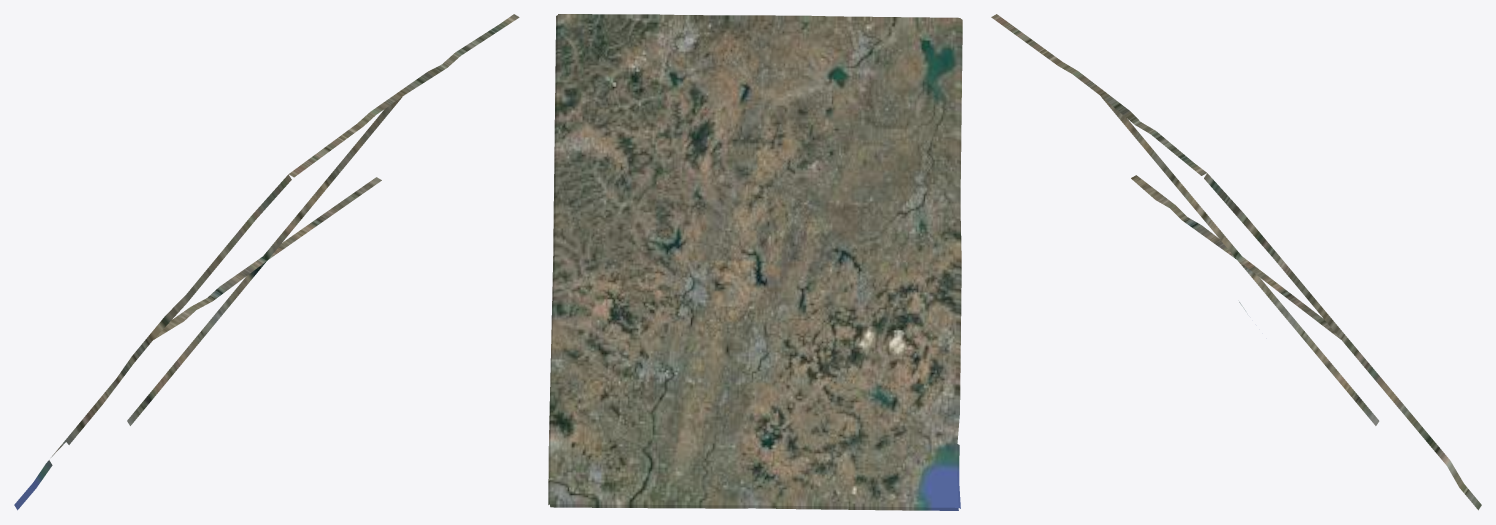
The picture shows the model from 3 angles, left to right: view 1: azimuth 30°, elevation 25°; view 2: azimuth 150°, elevation 25°; view 3: azimuth 270°, elevation 25°; orthographic projection. The views are drawn at different scales.
Bounding box in the file's own units: 157562 × 129497 × 143618.
Materials: 1 (1 with a texture image).
